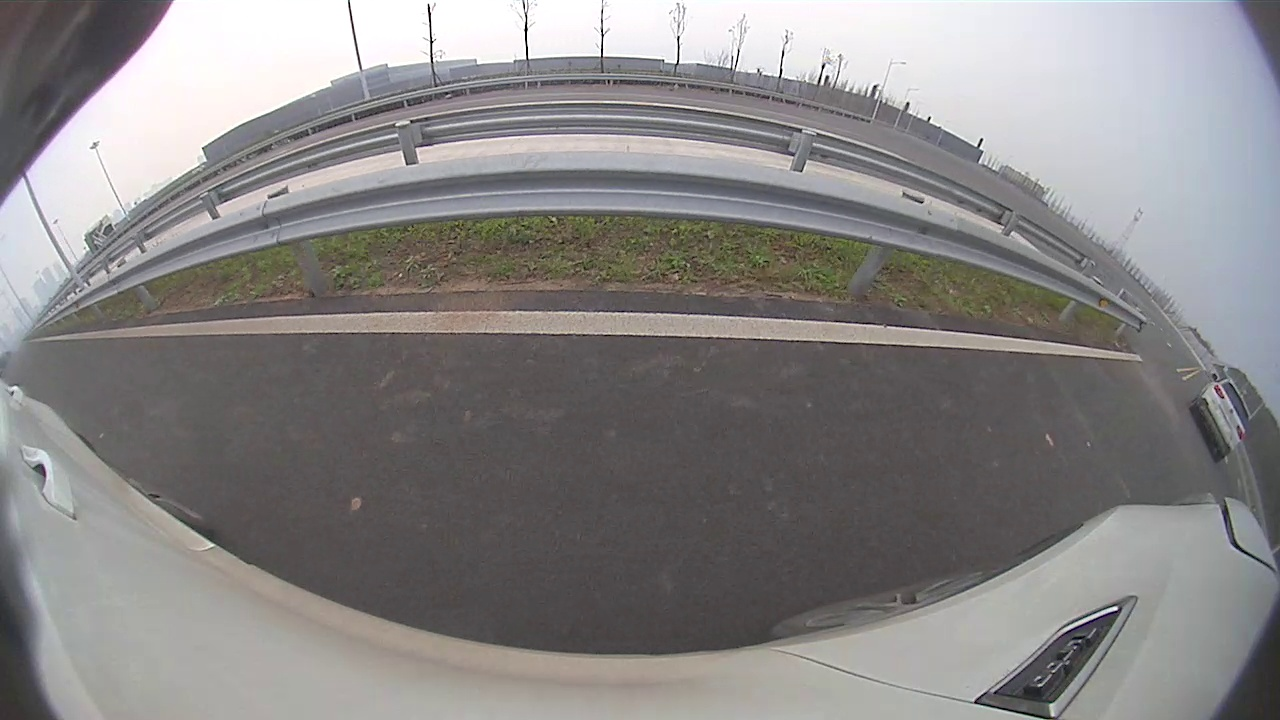car: (1188, 373, 1251, 462)
